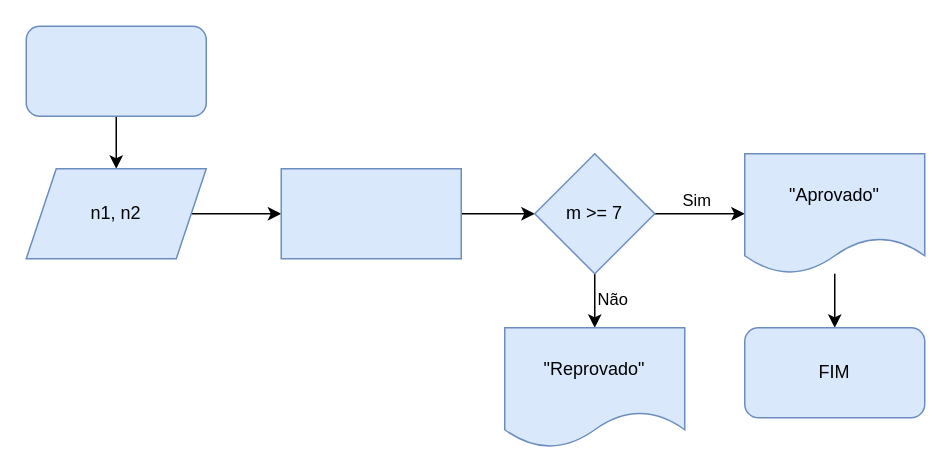
This 951x474 diagram has some shape labels left out. The centre of each missing label's shape, as x and y in pixels:
INÍCIO: point (115, 70)
m = (n1 + n2) /2: point (370, 213)
